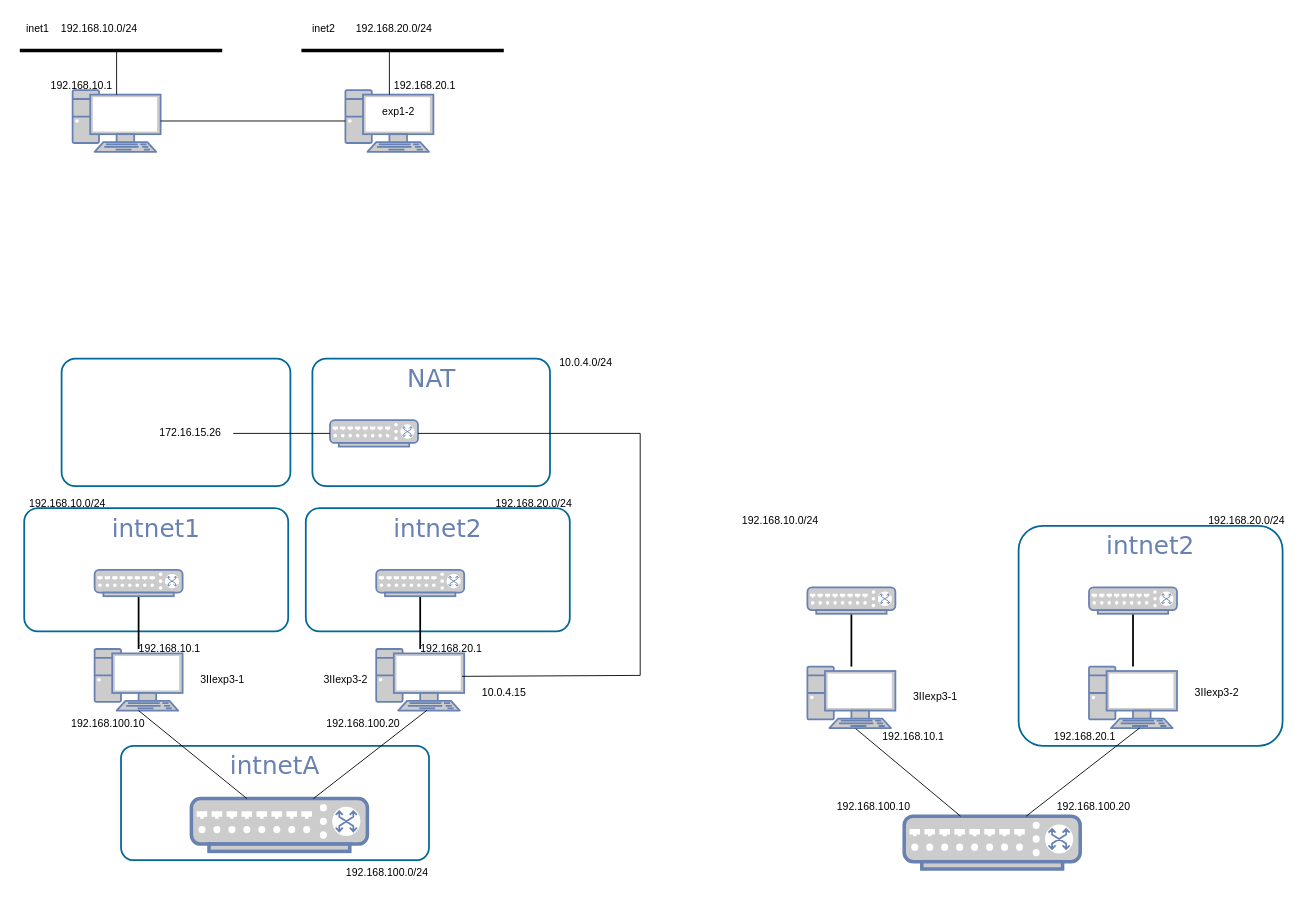
Image size: 1306x901. Some labels were removed from this diagram. The shapes that lost their labels are listed below. From the top down, each one's box as (x1, y1, x2, y2) in pixels, then its label:
(71, 89, 161, 152): exp1-1
(60, 357, 291, 487): 外部ネットワーク
